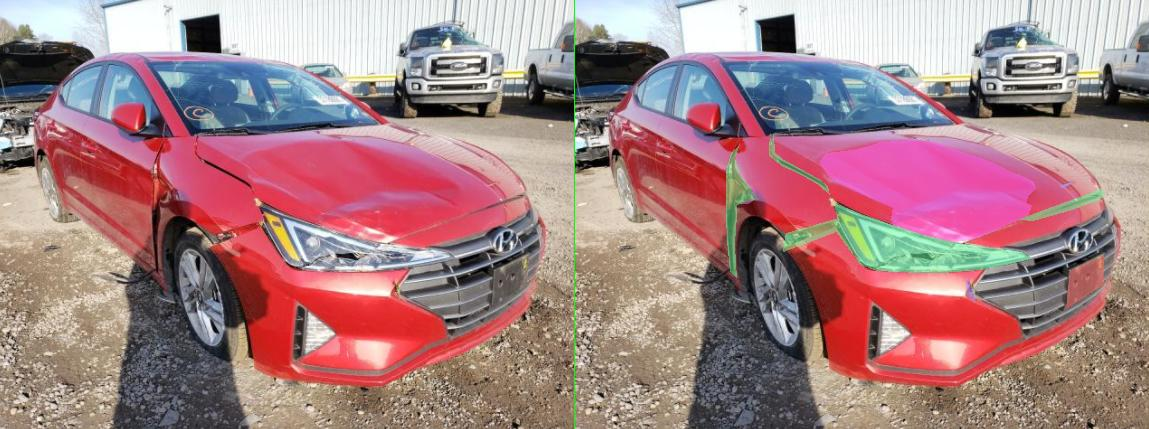Broken part: (518, 203, 911, 272), (302, 146, 358, 277), (388, 135, 508, 194), (889, 188, 1057, 220), (416, 218, 558, 253)
Dent: (488, 140, 921, 241), (316, 173, 356, 203)
Missing part: (983, 256, 1057, 308)
Scratch: (783, 278, 799, 302), (971, 182, 997, 188)
